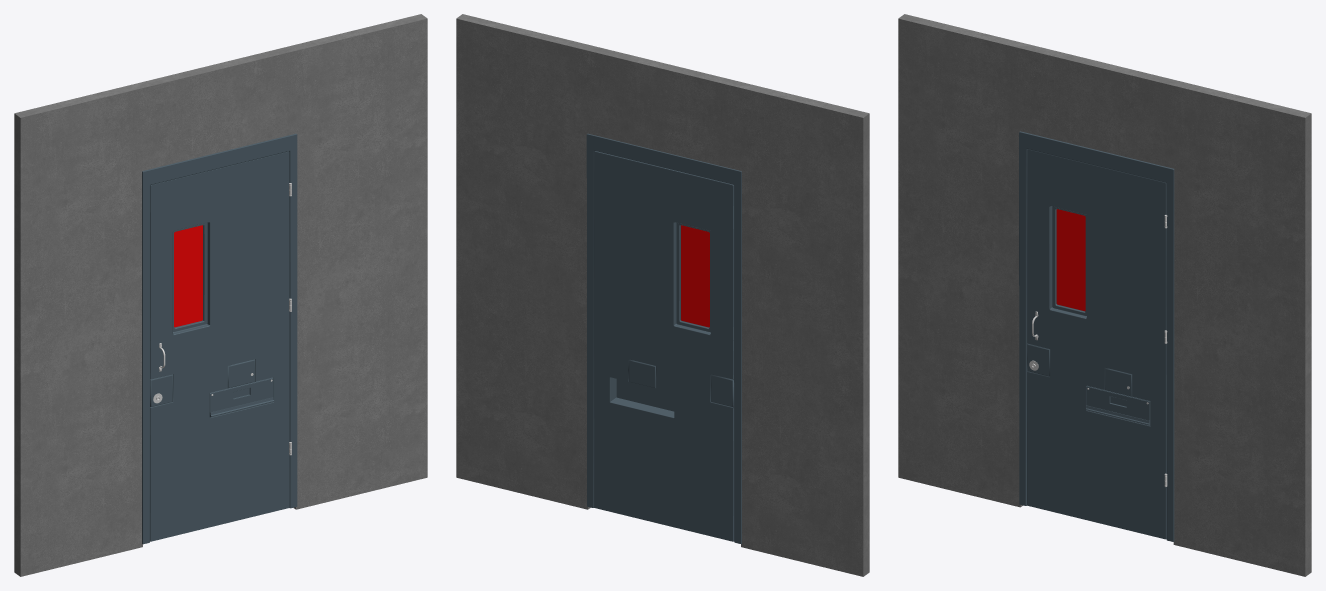
The model's file is WallWithDoor.FBX.
3 views of the same model, side by side, from view 1: azimuth 30°, elevation 25°; view 2: azimuth 150°, elevation 25°; view 3: azimuth 330°, elevation 25° (orthographic).
Parts seen in each view (by area): view 1: Plane006, Plane001; view 2: Plane006, Plane001; view 3: Plane006, Plane001.
Part boxes in pixels (left/top/right/bottom): Plane006: left=14, top=14, right=427, bottom=576; Plane001: left=142, top=133, right=297, bottom=544; Plane006: left=456, top=14, right=869, bottom=576; Plane001: left=586, top=133, right=741, bottom=543; Plane006: left=898, top=14, right=1311, bottom=576; Plane001: left=1019, top=131, right=1174, bottom=541.
Bounding box in the file's own units: 79.99 × 86.18 × 4.06.
